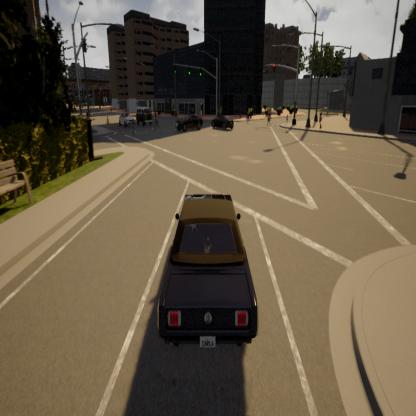Cars: (157, 184, 261, 357), (176, 115, 202, 132), (211, 114, 235, 132), (136, 104, 153, 128), (118, 111, 135, 126)
Pedestrian: (266, 104, 272, 130), (319, 108, 324, 132), (105, 113, 111, 129), (247, 108, 251, 123)
